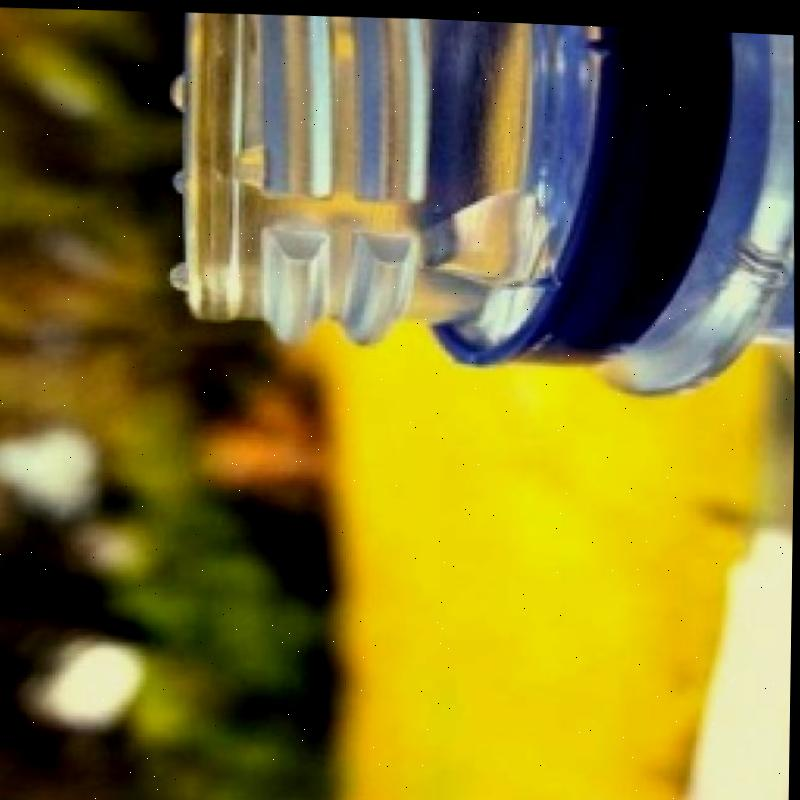botella: (179, 6, 799, 405)
